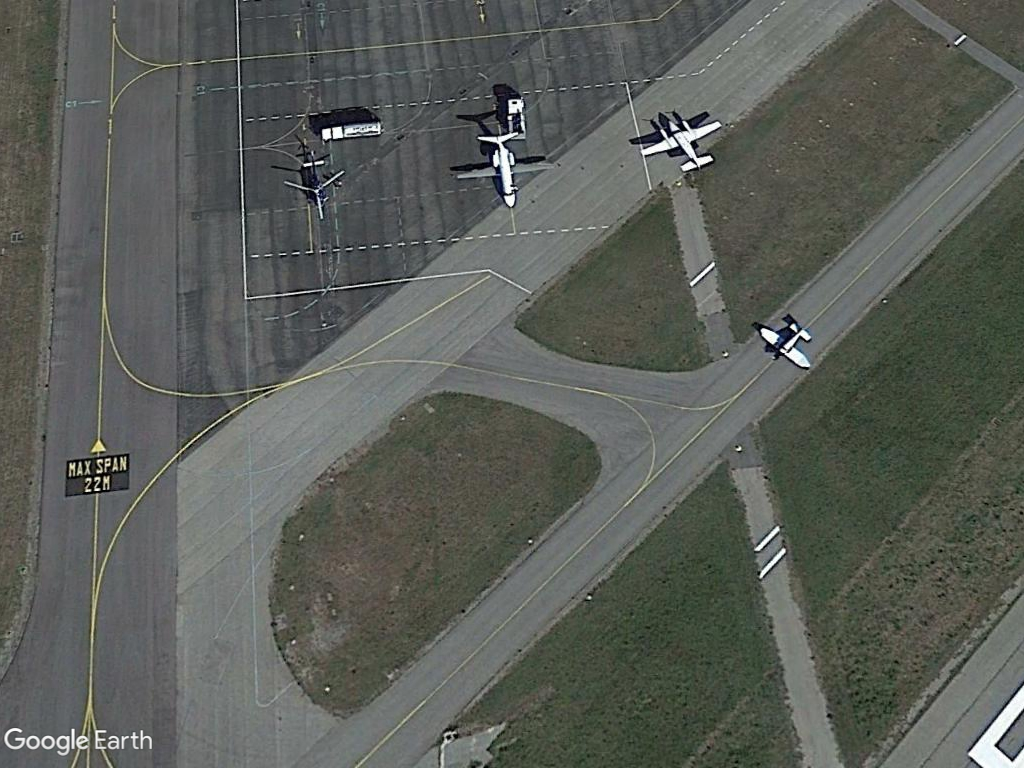chartered: (456, 130, 555, 214)
helicopter: (280, 146, 350, 228)
trainer: (634, 114, 726, 178), (749, 313, 819, 372)
